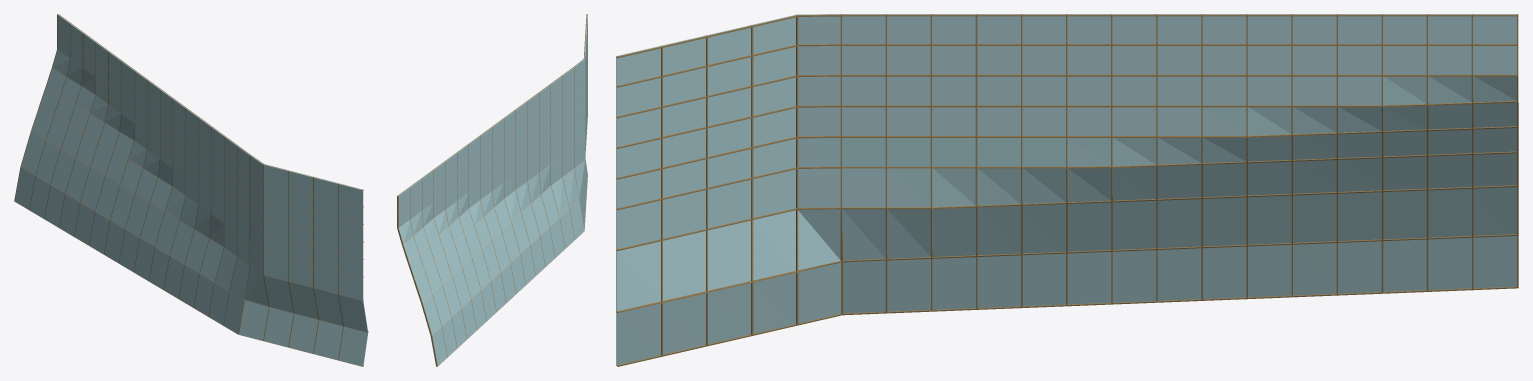
File: G7_Completion_R005B_Body_-1_07.glb
3 views of the same model, side by side, from view 1: azimuth 30°, elevation 25°; view 2: azimuth 150°, elevation 25°; view 3: azimuth 270°, elevation 25° (orthographic). The views are drawn at different scales.
Parts seen in each view (by area): view 1: Body_-1_07_G7C3_glass_solid_skin, Body_-1_07_G7C3_metal_solid_skin, Body_-1_07_G7C3_shell_solid_skin, Body_-1_07_G7C3_metal_solid_frame; view 2: Body_-1_07_G7C3_glass_solid_skin, Body_-1_07_G7C3_metal_solid_skin, Body_-1_07_G7C3_shell_solid_skin, Body_-1_07_G7C3_metal_solid_frame; view 3: Body_-1_07_G7C3_glass_solid_skin, Body_-1_07_G7C3_metal_solid_frame.
Boxes of the visible parts, box(x1,y1,x2,y2) form: Body_-1_07_G7C3_glass_solid_skin: box(15, 14, 368, 365); Body_-1_07_G7C3_metal_solid_skin: box(14, 14, 343, 359); Body_-1_07_G7C3_shell_solid_skin: box(14, 31, 368, 366); Body_-1_07_G7C3_metal_solid_frame: box(58, 14, 368, 366); Body_-1_07_G7C3_glass_solid_skin: box(398, 14, 587, 365); Body_-1_07_G7C3_metal_solid_skin: box(397, 36, 586, 366); Body_-1_07_G7C3_shell_solid_skin: box(397, 32, 587, 366); Body_-1_07_G7C3_metal_solid_frame: box(397, 14, 587, 366); Body_-1_07_G7C3_glass_solid_skin: box(616, 14, 1516, 364); Body_-1_07_G7C3_metal_solid_frame: box(617, 14, 1518, 366).
Size of the model in its own units: 26.47 by 45.5 by 120.
Materials: 3 (2 with a texture image).
